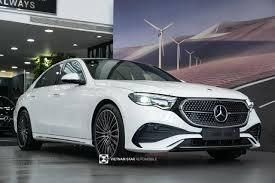mercedes: (209, 99, 231, 125)
